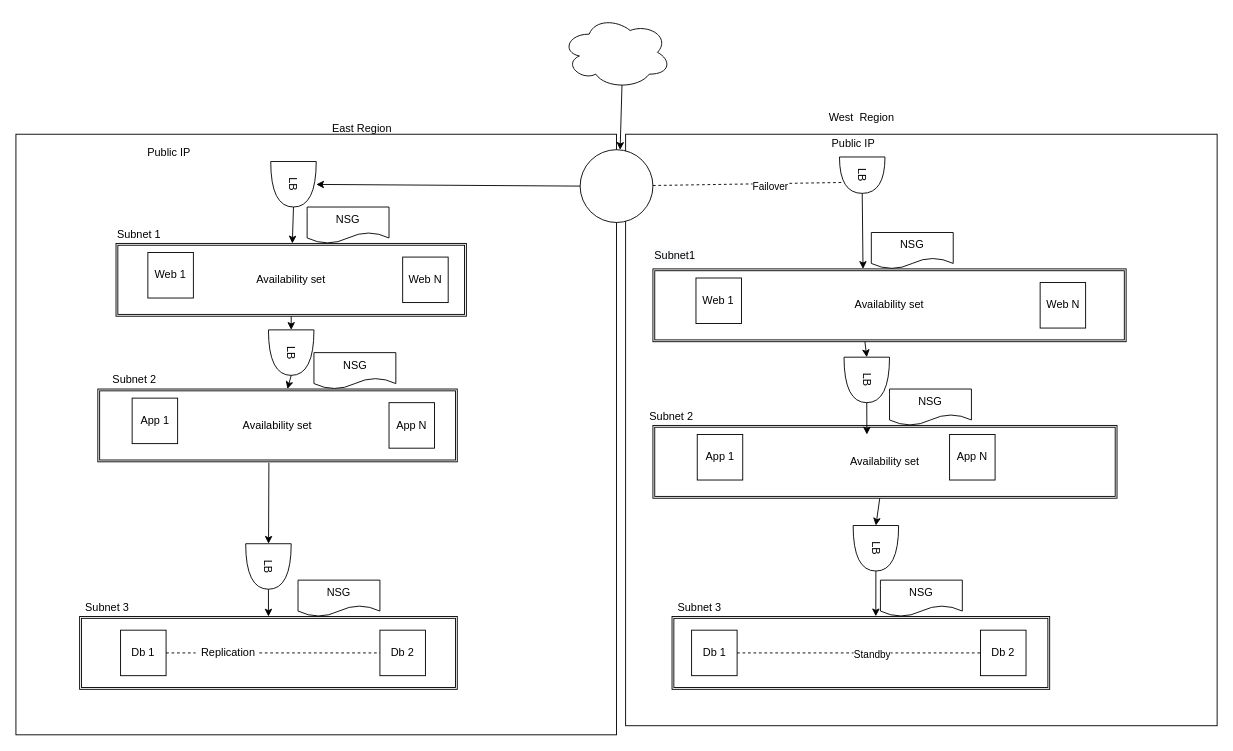
Some shapes in this 1233 by 751 pixel diagram are drawn without their labels. The centre of each missing label's shape, as x and y in pixels:
Internet: (x=616, y=52)
Traffic Manager: (x=616, y=185)
